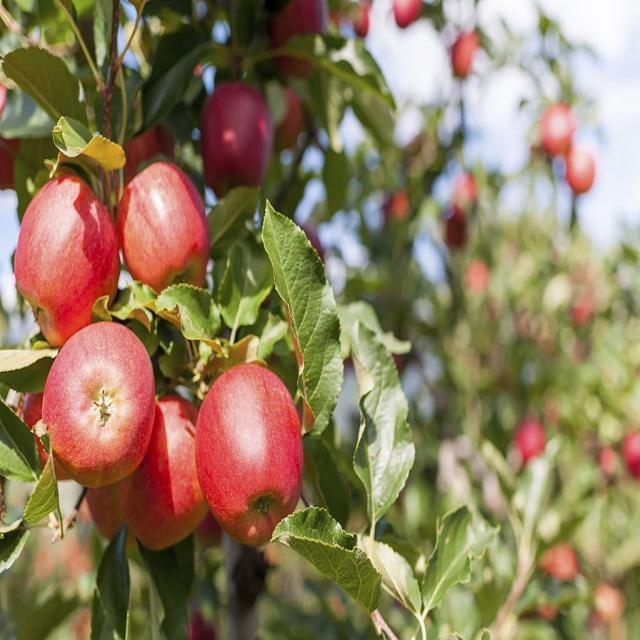Red Apple: (189, 359, 305, 541), (48, 323, 156, 480), (13, 178, 113, 323), (133, 389, 211, 541), (119, 169, 199, 285), (207, 81, 273, 192), (80, 466, 139, 545), (281, 1, 337, 67), (18, 390, 58, 474), (1, 84, 24, 188), (270, 87, 306, 147), (128, 124, 172, 171), (544, 105, 578, 154), (563, 149, 598, 193), (453, 29, 484, 74), (545, 543, 577, 575), (393, 1, 426, 31), (520, 418, 547, 453), (443, 210, 472, 242), (185, 614, 220, 640), (352, 1, 379, 34), (597, 447, 622, 480), (599, 586, 624, 616), (460, 181, 481, 214), (302, 225, 324, 254), (626, 430, 640, 474), (390, 193, 411, 218), (472, 263, 490, 291), (576, 300, 593, 321)
